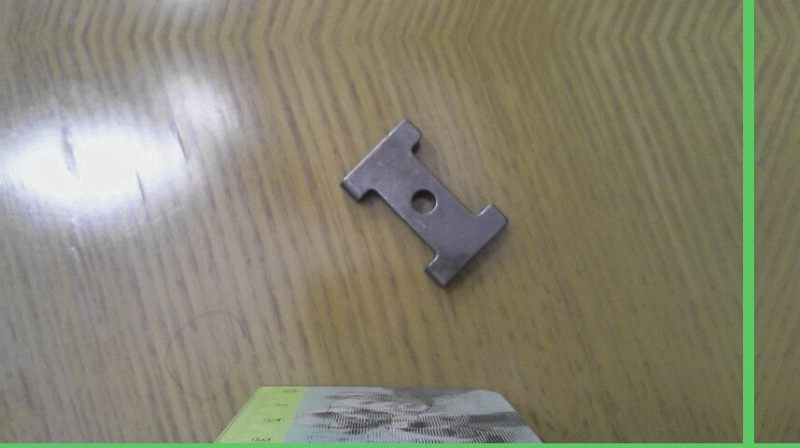O002: (334, 111, 512, 289)
